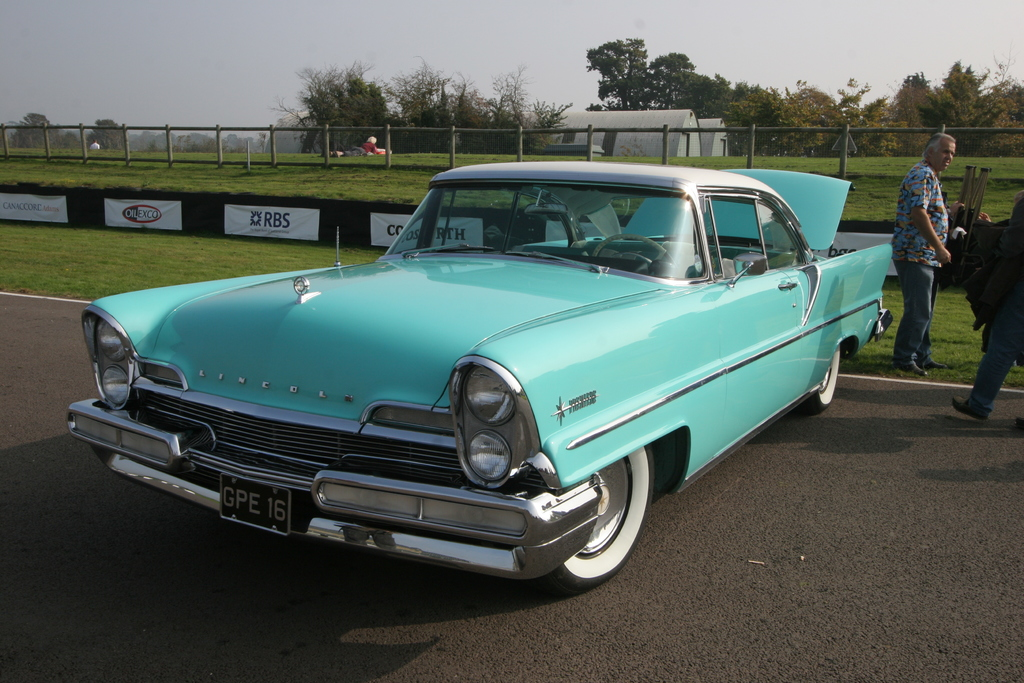Car: (61, 157, 893, 598)
